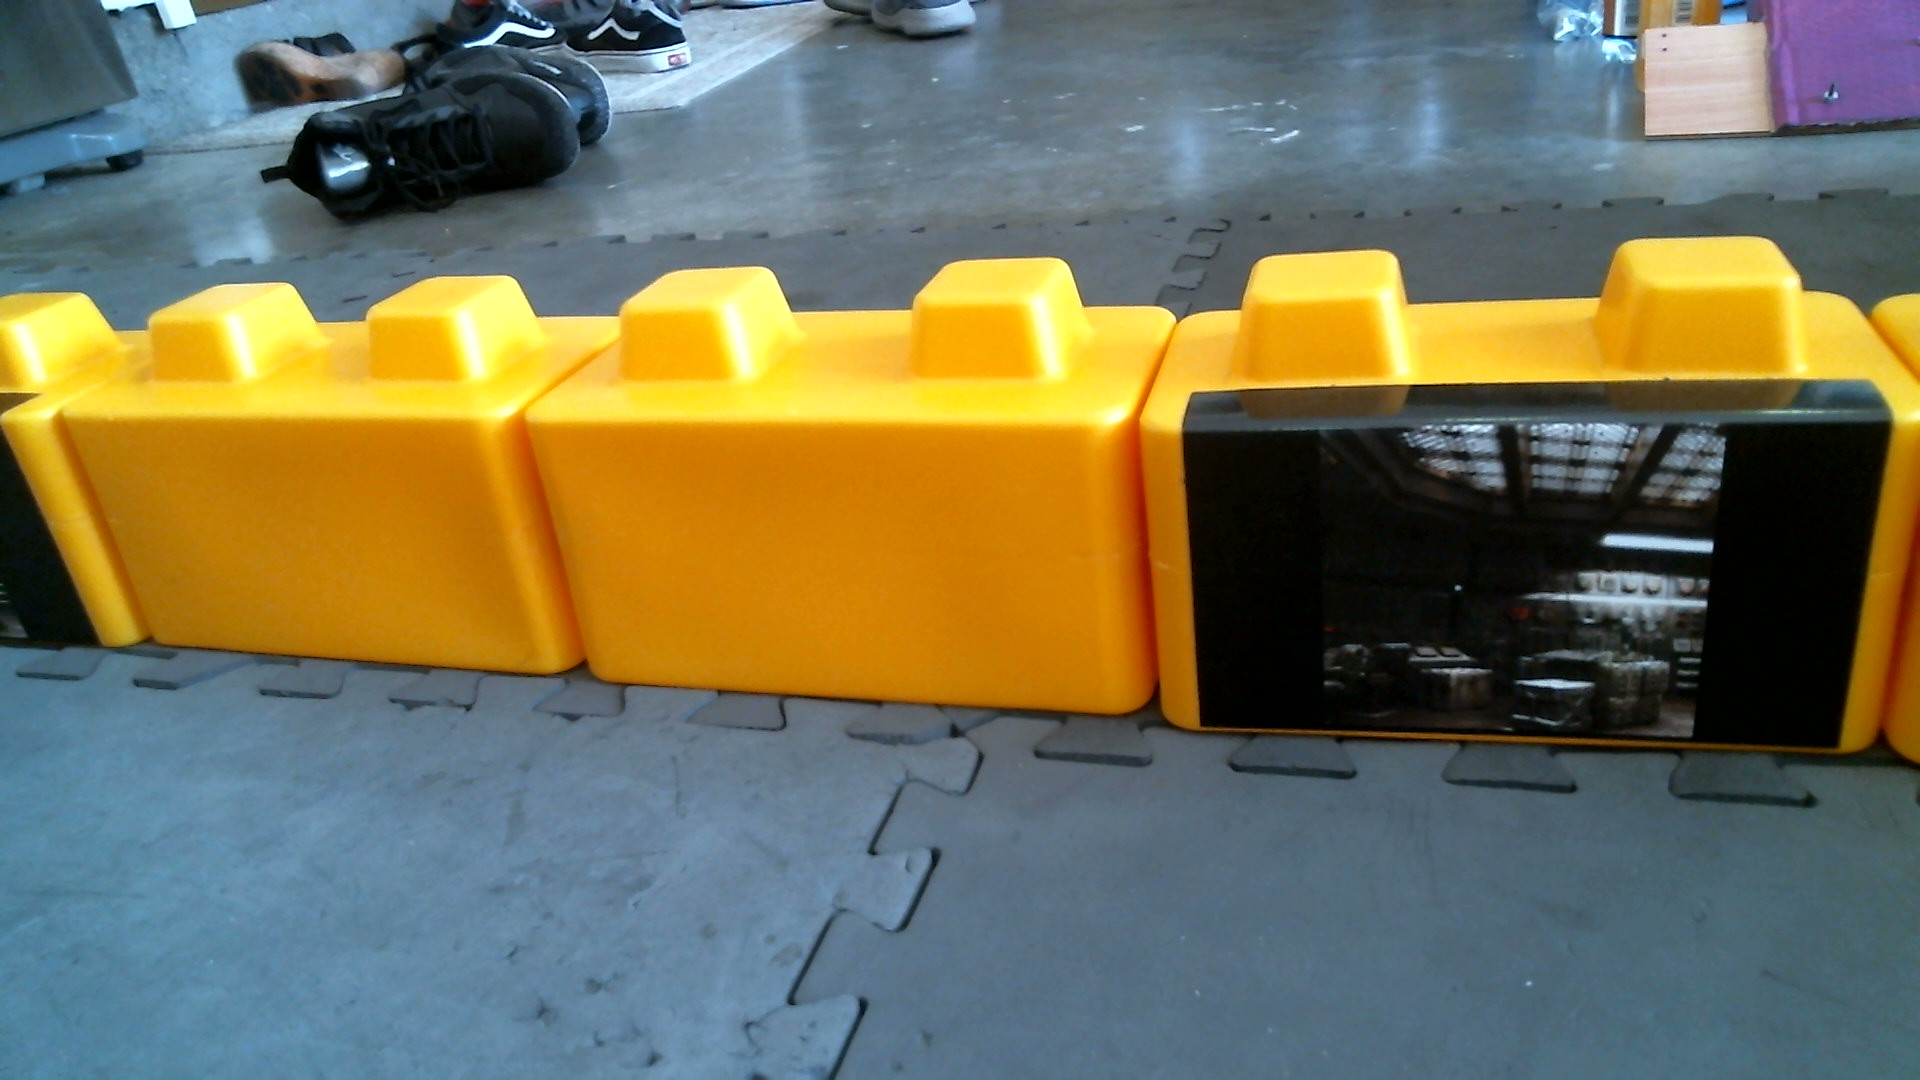skystone: (1162, 255, 1905, 775), (3, 287, 144, 661)
stone: (546, 264, 1153, 752), (105, 282, 588, 683)
